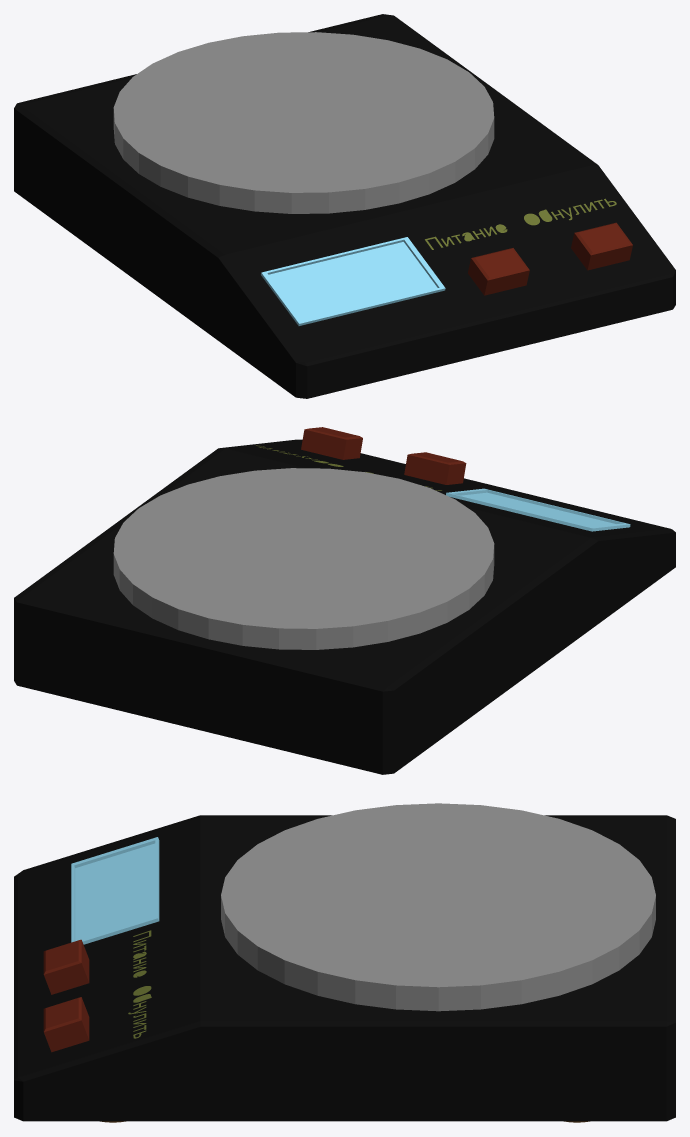
File: Scale.fbx
3 views of the same model, one above another, from view 1: azimuth 30°, elevation 25°; view 2: azimuth 150°, elevation 25°; view 3: azimuth 270°, elevation 25° (orthographic). The views are drawn at different scales.
Parts seen in each view (by area): view 1: Body, Button_power, Button_zero; view 2: Body, Button_power, Button_zero; view 3: Body, Button_power, Button_zero.
Part boxes in pixels (left/top/right/bottom): Body: left=14, top=14, right=675, bottom=398; Button_power: left=468, top=248, right=529, bottom=295; Button_zero: left=571, top=222, right=632, bottom=270; Body: left=14, top=439, right=675, bottom=774; Button_power: left=404, top=452, right=466, bottom=484; Button_zero: left=301, top=427, right=362, bottom=459; Body: left=14, top=803, right=675, bottom=1122; Button_power: left=43, top=939, right=89, bottom=994; Button_zero: left=43, top=997, right=89, bottom=1052.
Size of the model in its own units: 75.5 by 23.77 by 99.84.
